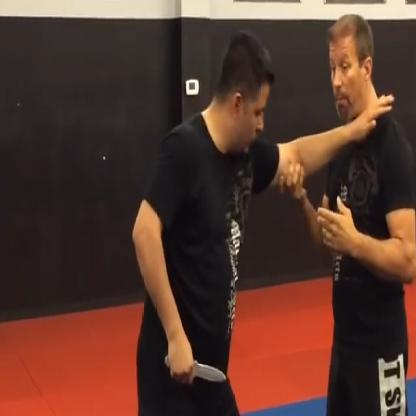knife: (162, 344, 229, 386)
